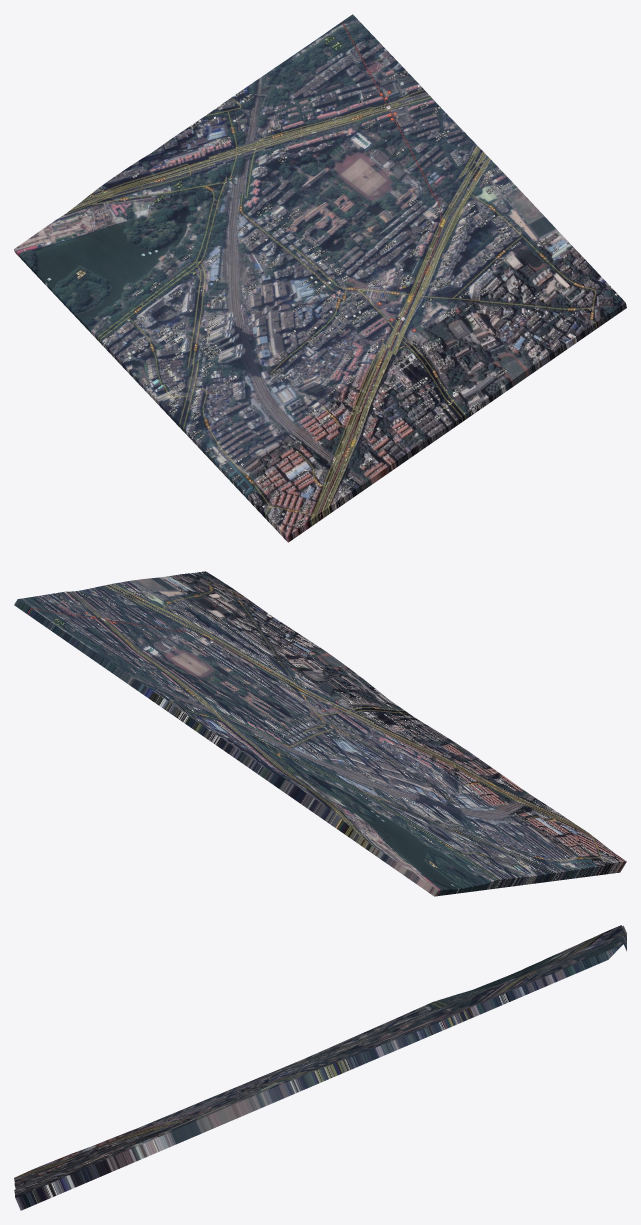
The picture shows the model from 3 angles, top to bottom: view 1: azimuth 30°, elevation 25°; view 2: azimuth 150°, elevation 25°; view 3: azimuth 270°, elevation 25°; orthographic projection. The views are drawn at different scales.
Visible parts, largest first — view 1: 1_3_3; view 2: 1_3_3; view 3: 1_3_3.
Part boxes in pixels (x1,y1,x2,y2): 1_3_3: (14, 14, 626, 542); 1_3_3: (14, 571, 626, 896); 1_3_3: (14, 925, 626, 1210).
Bounding box in the file's own units: 1228 × 896 × 1131.
Materials: 1 (1 with a texture image).
